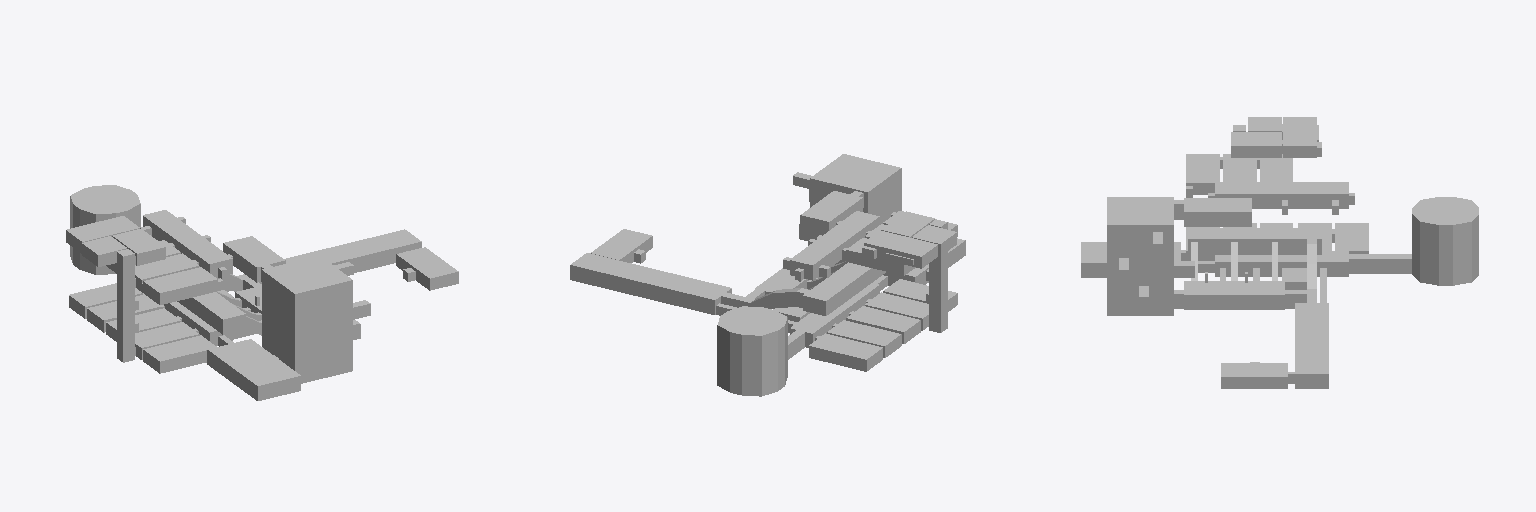
3 views of the same model, side by side, from view 1: azimuth 30°, elevation 25°; view 2: azimuth 150°, elevation 25°; view 3: azimuth 270°, elevation 25° (orthographic).
Visible parts, largest first — view 1: result_Cube.003; view 2: result_Cube.003; view 3: result_Cube.003.
Part boxes in pixels (left/top/right/bottom): result_Cube.003: left=66, top=185, right=458, bottom=400; result_Cube.003: left=570, top=154, right=965, bottom=396; result_Cube.003: left=1081, top=117, right=1478, bottom=388.
Size of the model in its own units: 120 by 36 by 119.